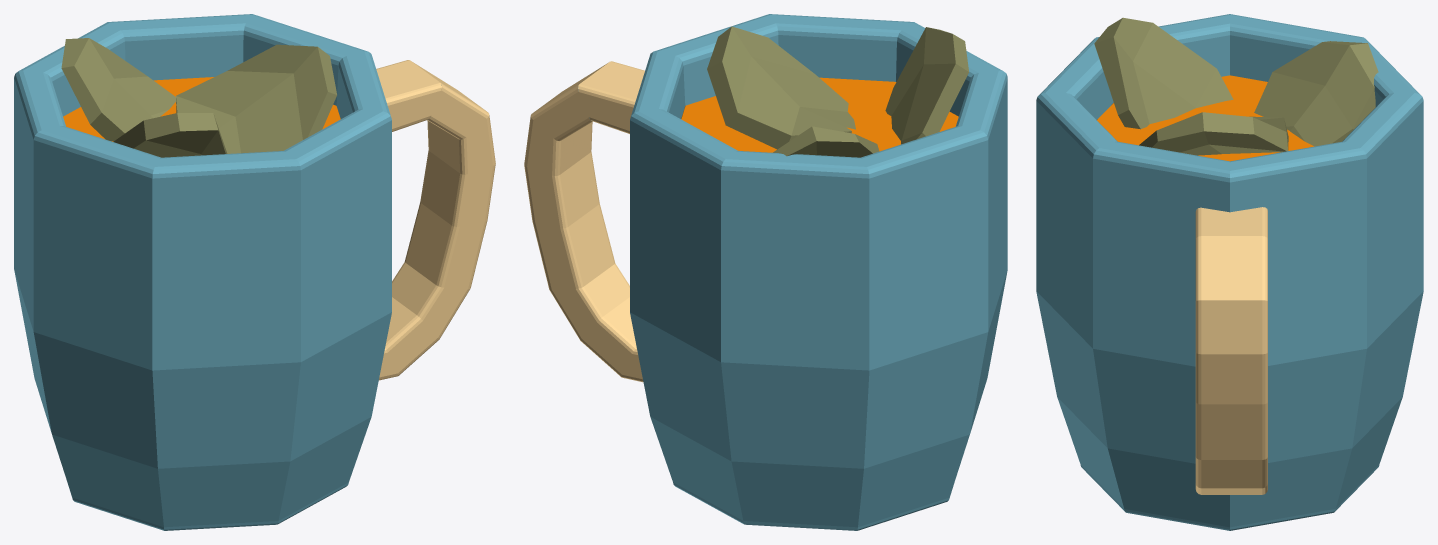
File: Cup (filled) Herb.fbx
3 views of the same model, side by side, from view 1: azimuth 30°, elevation 25°; view 2: azimuth 150°, elevation 25°; view 3: azimuth 270°, elevation 25° (orthographic).
Parts seen in each view (by area): view 1: CupFilledHerb; view 2: CupFilledHerb; view 3: CupFilledHerb.
Boxes of the visible parts, x1,y1,x2,y2 form: CupFilledHerb: (14, 14, 495, 530); CupFilledHerb: (524, 14, 1007, 530); CupFilledHerb: (1036, 14, 1423, 530).
Bounding box in the file's own units: 39.57 × 35.29 × 30.
